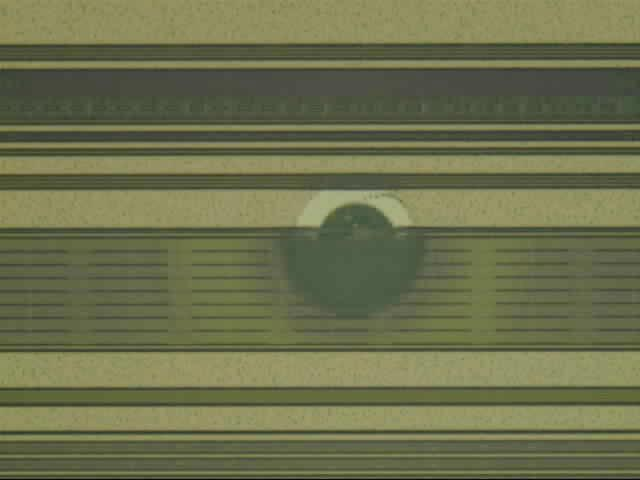BLOCK ETCH: (281, 180, 433, 325)
